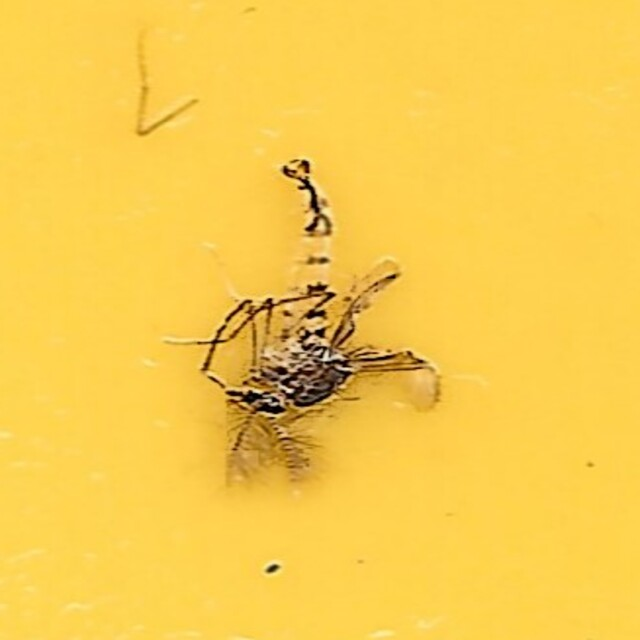Nematocera: (196, 151, 444, 489)
